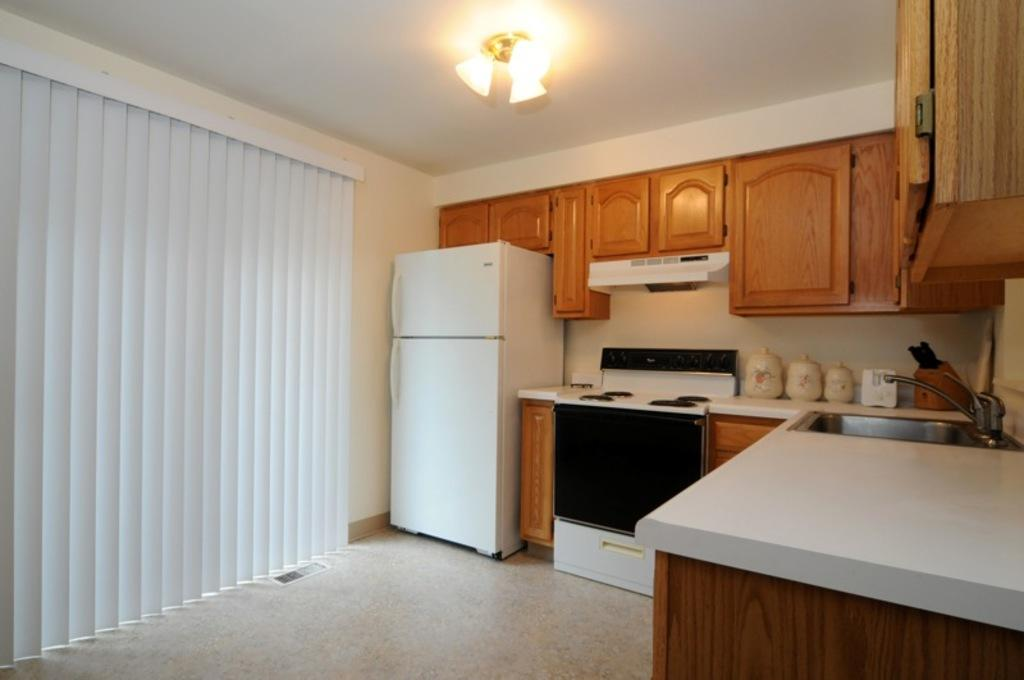cabinet_door: (734, 167, 850, 306), (654, 177, 728, 248), (600, 184, 652, 255), (526, 402, 550, 536), (557, 192, 584, 310), (510, 205, 548, 245), (446, 208, 488, 242)
handle: (386, 343, 404, 396), (386, 272, 402, 328)
